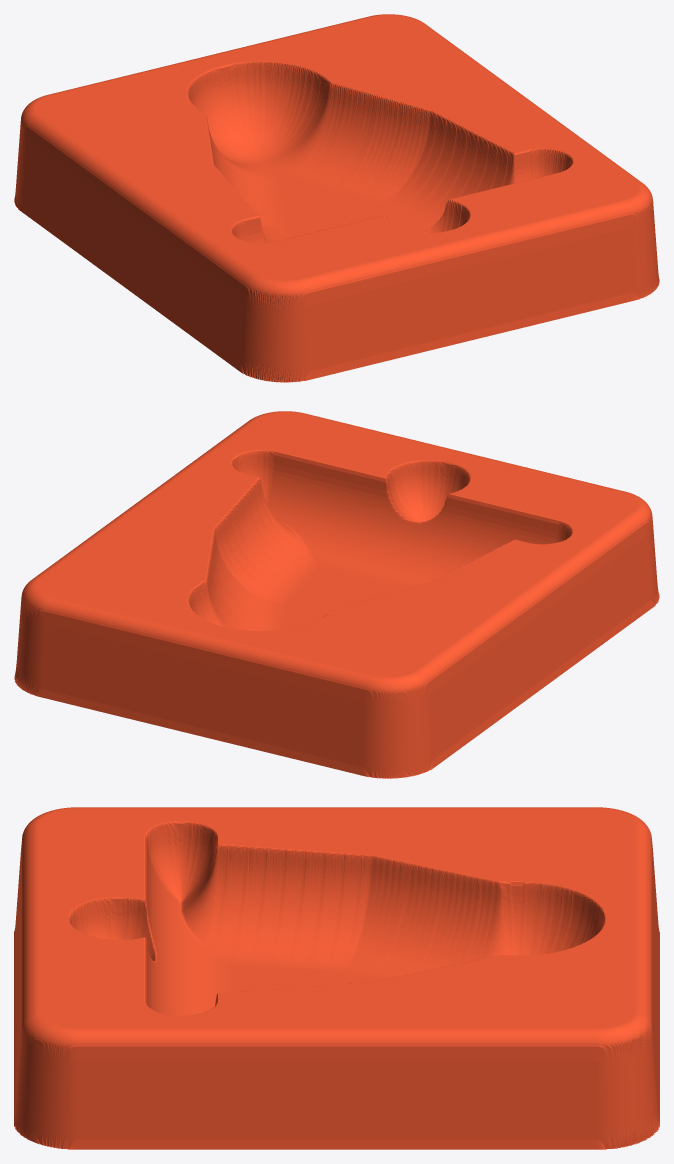
The model's file is mold.glb.
3 views of the same model, one above another, from view 1: azimuth 30°, elevation 25°; view 2: azimuth 150°, elevation 25°; view 3: azimuth 270°, elevation 25° (orthographic). The views are drawn at different scales.
Parts seen in each view (by area): view 1: geometry_0; view 2: geometry_0; view 3: geometry_0.
Part boxes in pixels (x1,y1,x2,y2): geometry_0: (14, 14, 659, 382); geometry_0: (14, 411, 659, 778); geometry_0: (14, 807, 659, 1149).
Bounding box in the file's own units: 0.0814 × 0.0175 × 0.0924.
